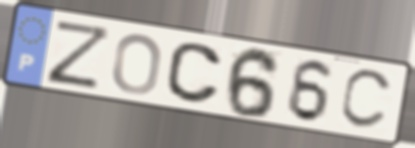6: (224, 44, 283, 120), (286, 58, 336, 126)
C: (163, 40, 225, 106), (337, 68, 397, 132)
O: (109, 32, 165, 97)
Z: (44, 17, 115, 92)
